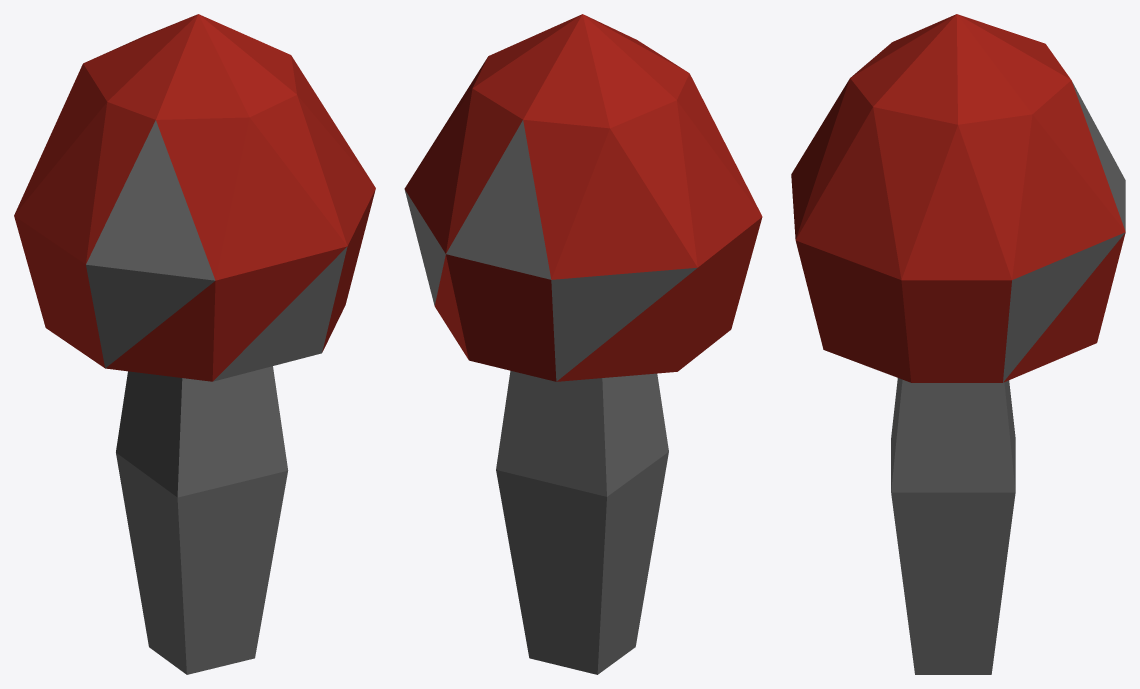
Rendered from Mushroom_Small_1.fbx.
The picture shows the model from 3 angles, left to right: view 1: azimuth 30°, elevation 25°; view 2: azimuth 150°, elevation 25°; view 3: azimuth 270°, elevation 25°; orthographic projection.
Visible parts, largest first — view 1: Mushroom_Small_1; view 2: Mushroom_Small_1; view 3: Mushroom_Small_1.
Part boxes in pixels (left/top/right/bottom): Mushroom_Small_1: left=14, top=14, right=375, bottom=674; Mushroom_Small_1: left=404, top=14, right=762, bottom=674; Mushroom_Small_1: left=791, top=14, right=1125, bottom=674.
Size of the model in its own units: 31.32 by 63.72 by 30.03.
